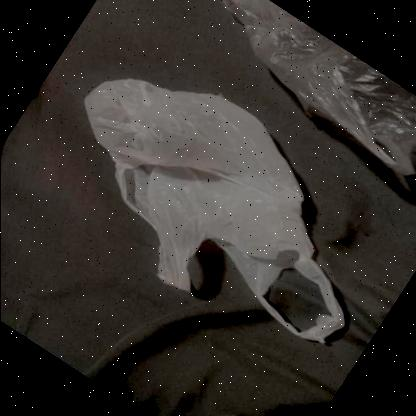Others: (82, 78, 346, 346)
